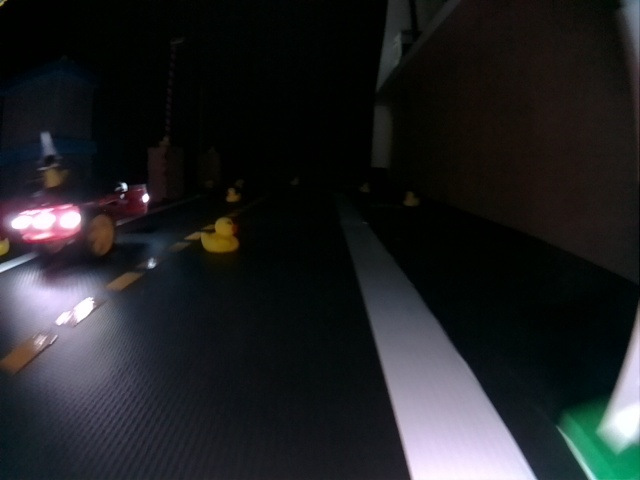Duckie: (201, 217, 240, 252), (225, 188, 240, 202), (404, 192, 418, 206), (159, 136, 169, 146), (359, 183, 369, 192), (290, 178, 299, 186)
Duckiebot: (9, 184, 150, 259)
